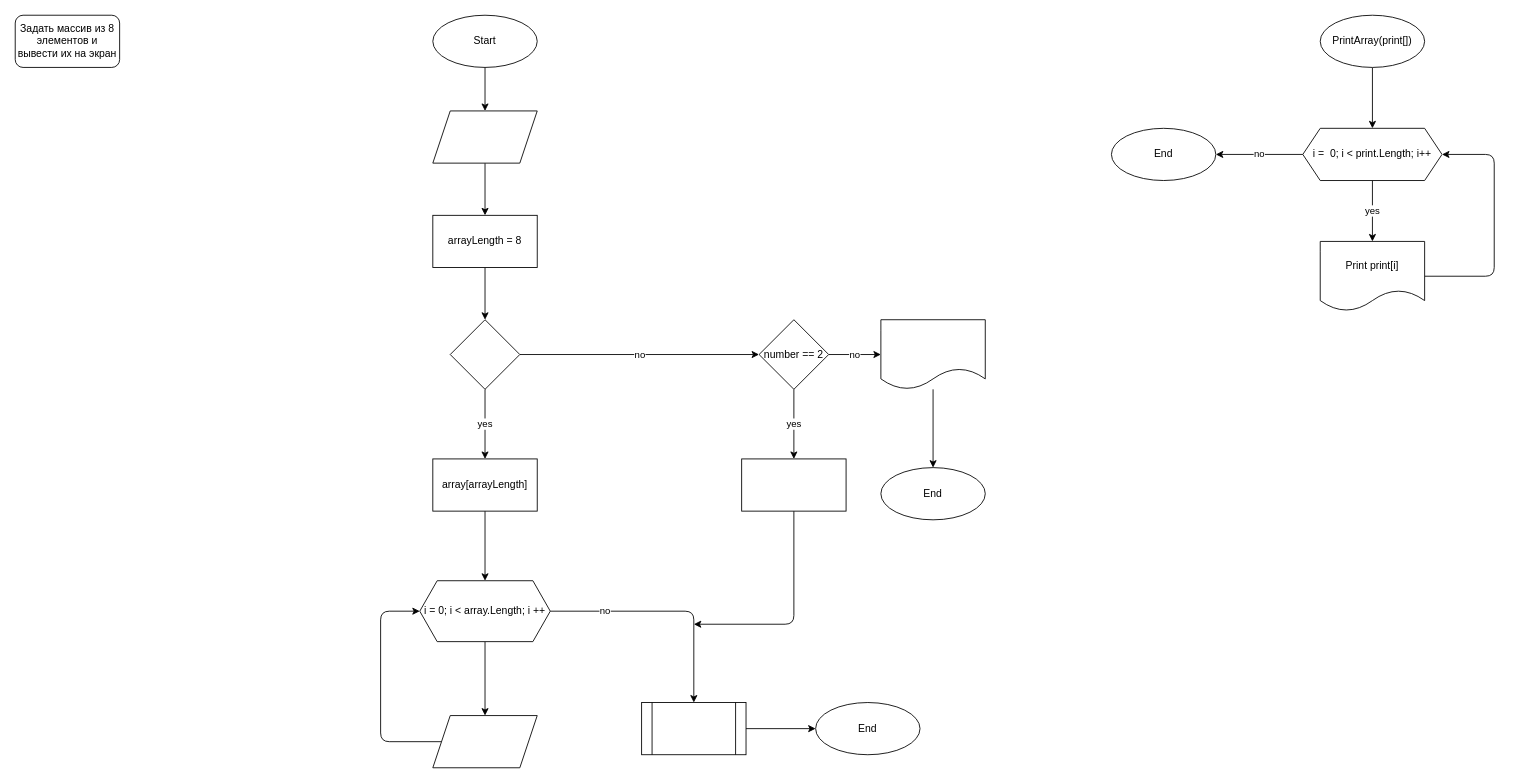
The diagram is 1516 pixels wide and 783 high, and some of its shapes have lost their labels. The shapes that lost their labels are listed below. From the top down, each one's centre as x and y in pixels, then its label:
At point (484, 136): "number".
At point (484, 354): "number == 1".
At point (932, 354): "Print incorrec number".
At point (793, 484): "array[] = {...}".
At point (484, 741): "arra[i]".
At point (693, 728): "PrintArray(array)".
